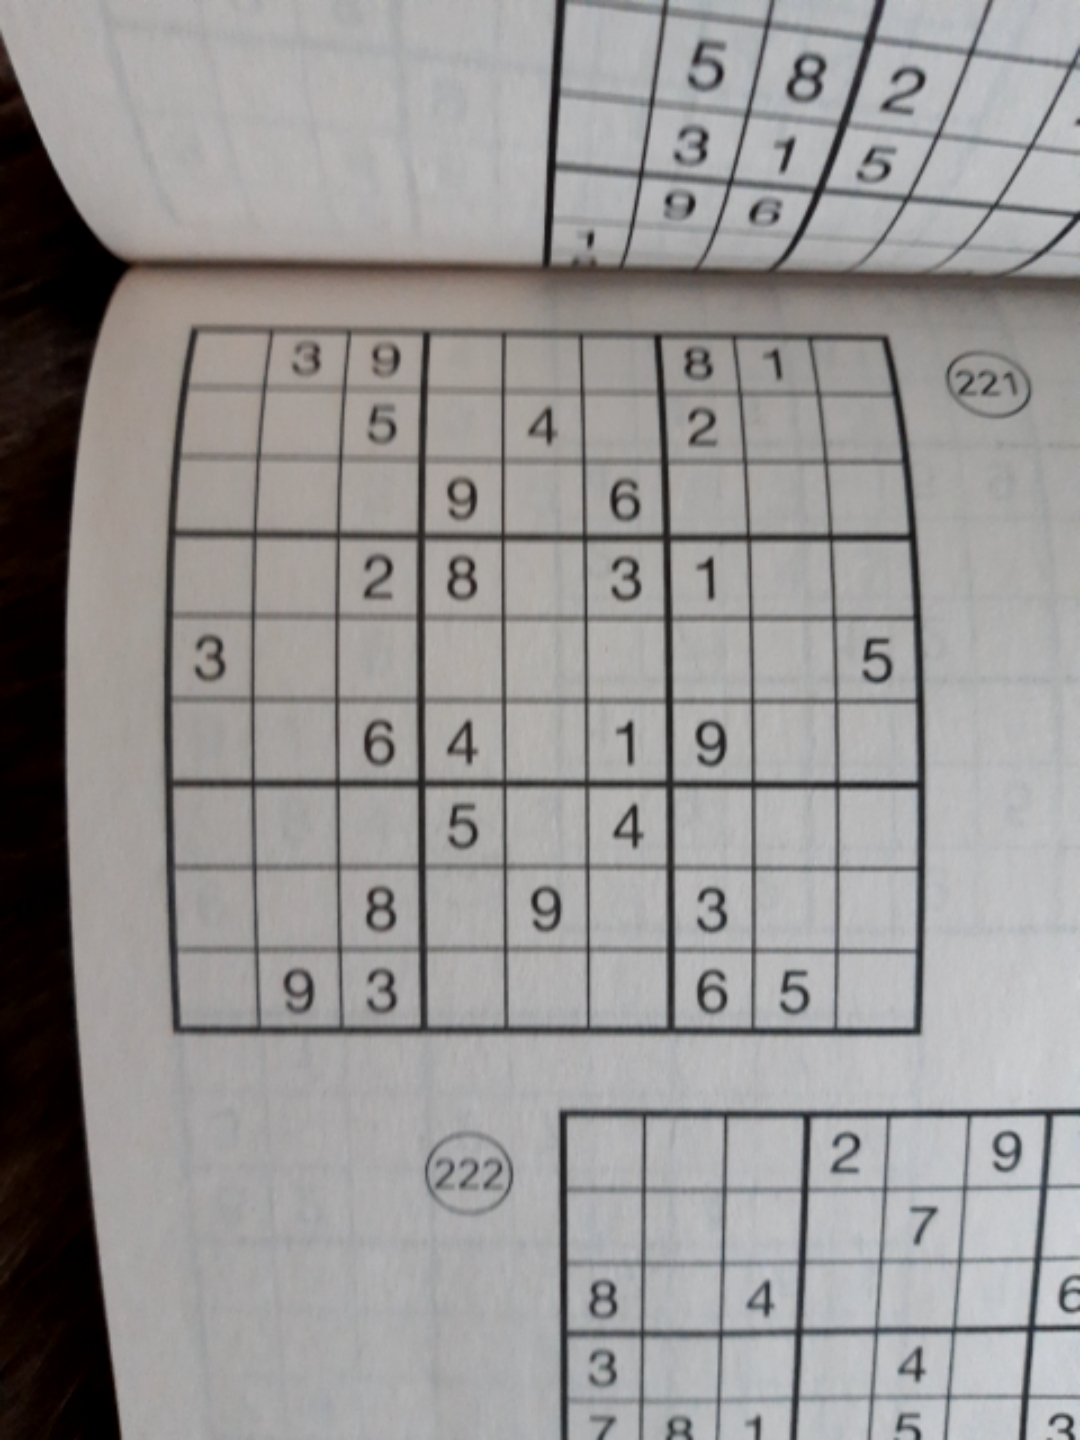sudoku: (160, 324, 925, 1036)
